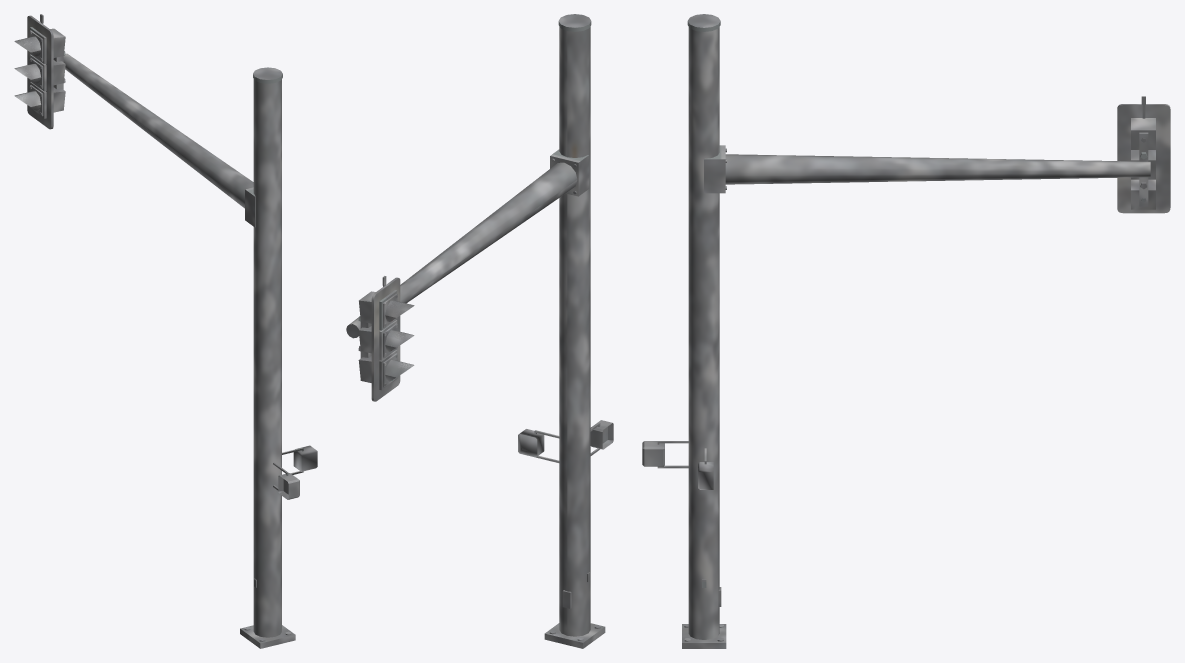
The model's file is TrafficLight.FBX.
The picture shows the model from 3 angles, left to right: view 1: azimuth 30°, elevation 25°; view 2: azimuth 150°, elevation 25°; view 3: azimuth 270°, elevation 25°; orthographic projection. The views are drawn at different scales.
Parts seen in each view (by area): view 1: TrafficLight; view 2: TrafficLight; view 3: TrafficLight.
Boxes of the visible parts, x1=… form: TrafficLight: x1=14, y1=14, x2=317, y2=648; TrafficLight: x1=346, y1=14, x2=613, y2=648; TrafficLight: x1=642, y1=14, x2=1170, y2=648.
Bounding box in the file's own units: 1.43 × 7.64 × 5.91.
